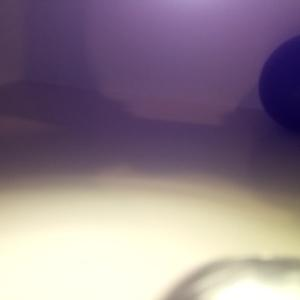alive_ball: (162, 257, 300, 300)
dead_ball: (258, 35, 300, 133)
